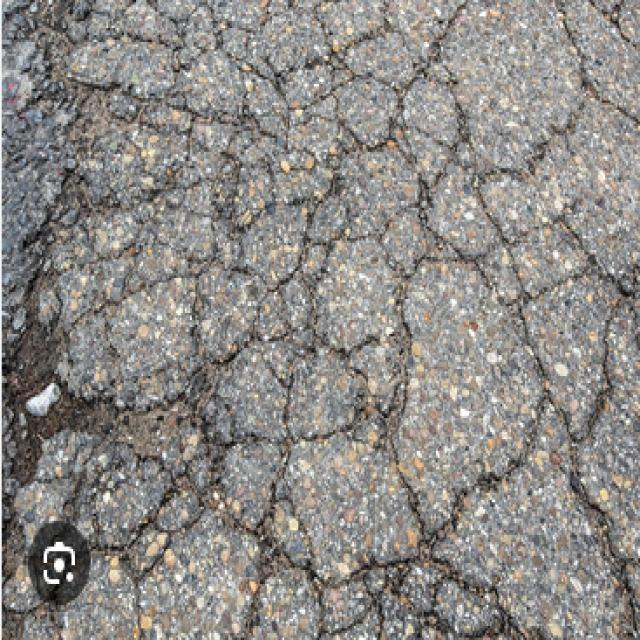Drain Hole: (32, 36, 640, 640)
